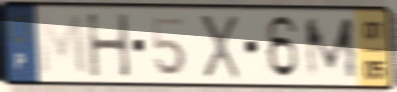5: (149, 15, 189, 78)
6: (264, 14, 300, 82)
H: (84, 11, 134, 80)
M: (302, 14, 362, 82), (35, 11, 91, 79)
X: (197, 12, 244, 82)
